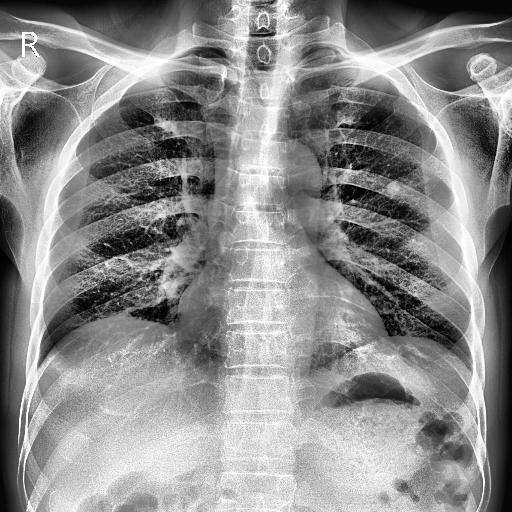0- Aortic enlargement: (260, 138, 322, 205), (255, 140, 323, 198)
7- Lung Opacity: (385, 182, 401, 196)
8- Nodule-Mass: (386, 178, 402, 196), (386, 180, 400, 198)
